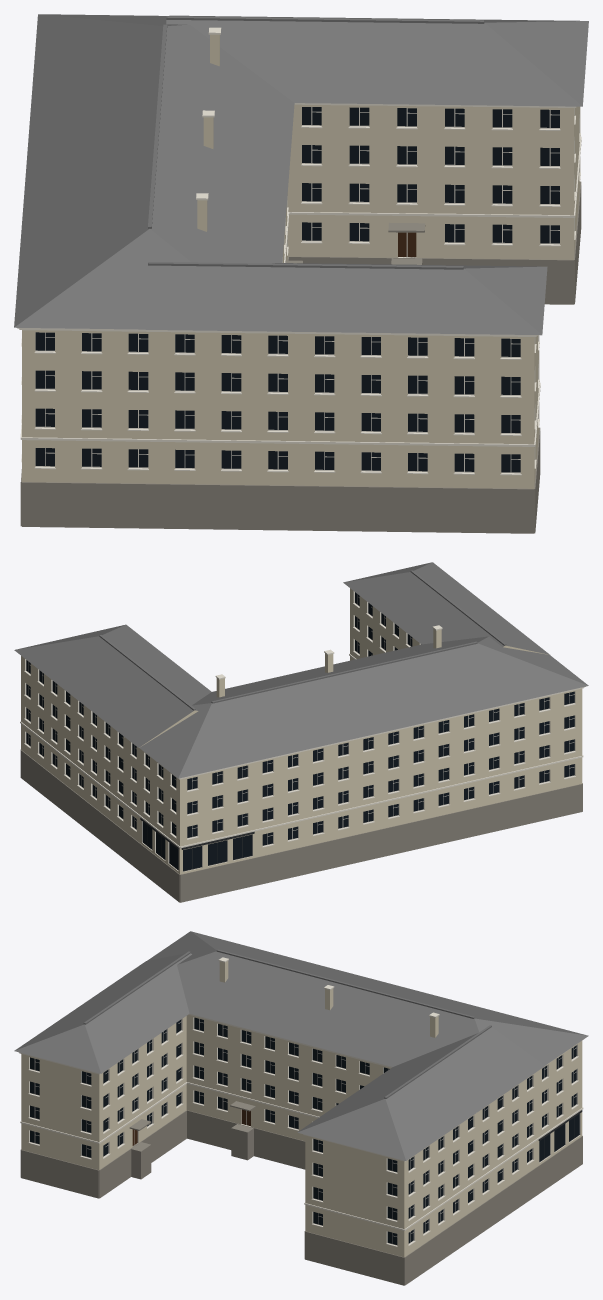
3 renders of one model, top to bottom at view 1: azimuth 30°, elevation 25°; view 2: azimuth 150°, elevation 25°; view 3: azimuth 270°, elevation 25°, orthographic. The views are drawn at different scales.
Visible parts, largest first — view 1: m-w92028127_roof, m-w92028127_wall, m-w92028127_stone, m-w92028127_glass, m-w92028127_trim; view 2: m-w92028127_roof, m-w92028127_wall, m-w92028127_stone, m-w92028127_glass, m-w92028127_trim, m-w92028127_metal; view 3: m-w92028127_roof, m-w92028127_wall, m-w92028127_stone, m-w92028127_glass, m-w92028127_trim.
Part boxes in pixels (x1,y1,x2,y2): m-w92028127_roof: (14, 14, 588, 335); m-w92028127_wall: (22, 34, 580, 488); m-w92028127_stone: (20, 181, 581, 533); m-w92028127_glass: (35, 107, 559, 472); m-w92028127_trim: (17, 27, 581, 475); m-w92028127_roof: (14, 562, 588, 778); m-w92028127_wall: (21, 588, 582, 874); m-w92028127_stone: (20, 749, 582, 902); m-w92028127_glass: (26, 592, 574, 870); m-w92028127_trim: (20, 591, 585, 871); m-w92028127_metal: (140, 818, 254, 871); m-w92028127_roof: (14, 931, 588, 1160); m-w92028127_wall: (21, 961, 582, 1257); m-w92028127_stone: (20, 1101, 582, 1285); m-w92028127_glass: (30, 1017, 579, 1244); m-w92028127_trim: (19, 957, 583, 1246).
Bounding box in the file's own units: 61.48 × 20.64 × 64.98.
